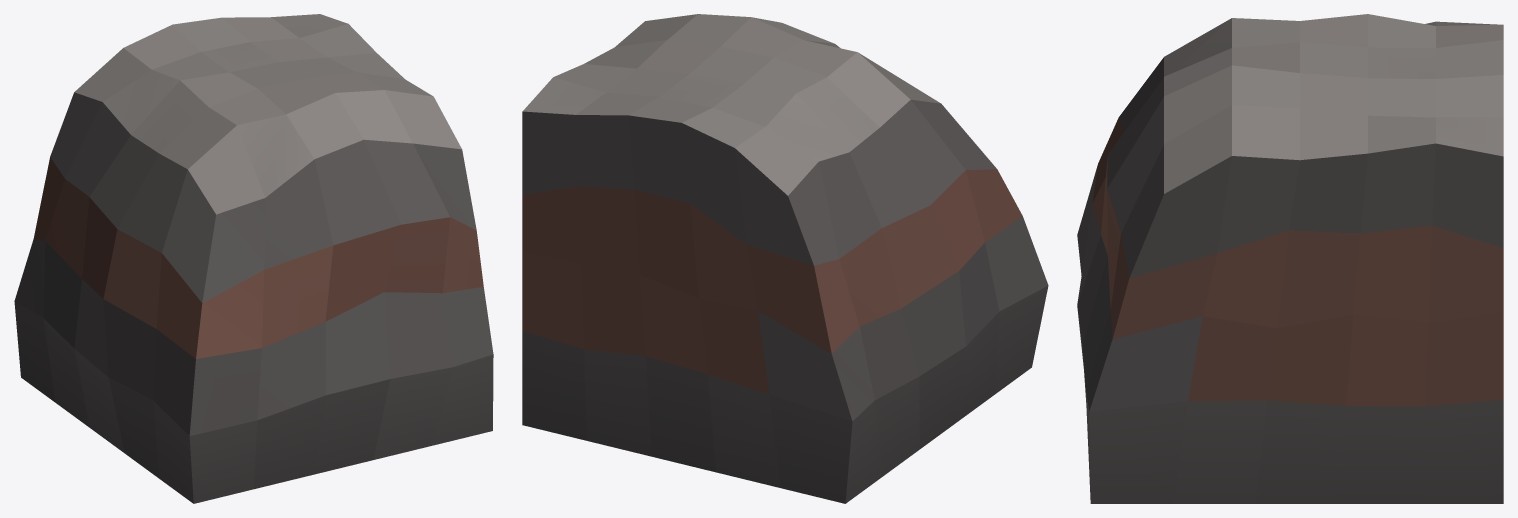
Rendered from roca_esquina_2.glb.
The picture shows the model from 3 angles, left to right: view 1: azimuth 30°, elevation 25°; view 2: azimuth 150°, elevation 25°; view 3: azimuth 270°, elevation 25°; orthographic projection. The views are drawn at different scales.
Visible parts, largest first — view 1: propforge-cuartos-roca_esquina; view 2: propforge-cuartos-roca_esquina; view 3: propforge-cuartos-roca_esquina.
Part boxes in pixels (x1,y1,x2,y2): propforge-cuartos-roca_esquina: (14, 14, 493, 503); propforge-cuartos-roca_esquina: (522, 14, 1048, 503); propforge-cuartos-roca_esquina: (1077, 14, 1503, 503).
Size of the model in its own units: 0.9361 by 0.9163 by 0.9294.
